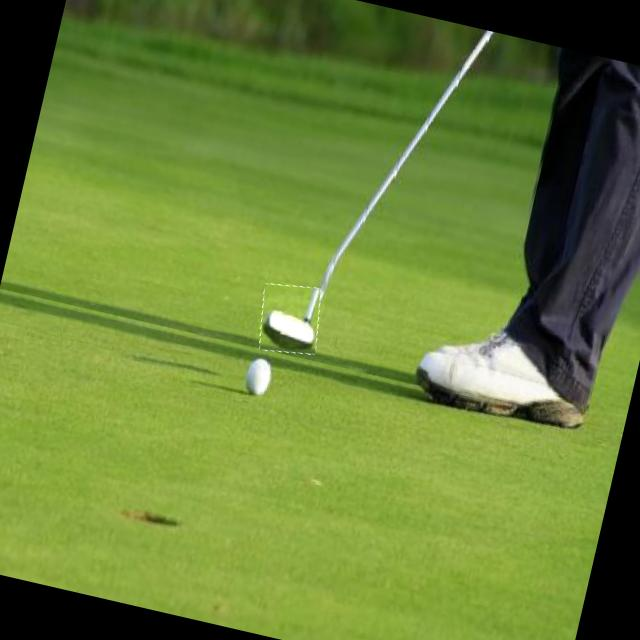club head: (252, 278, 326, 359)
